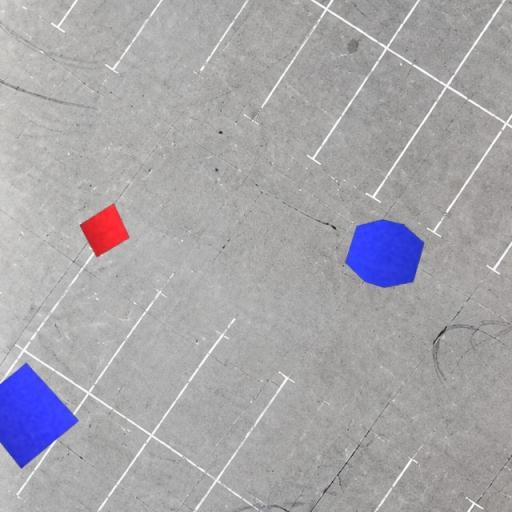BLUE_SQUARE: (0, 362, 79, 470)
RED_SQUARE: (78, 202, 130, 258)
